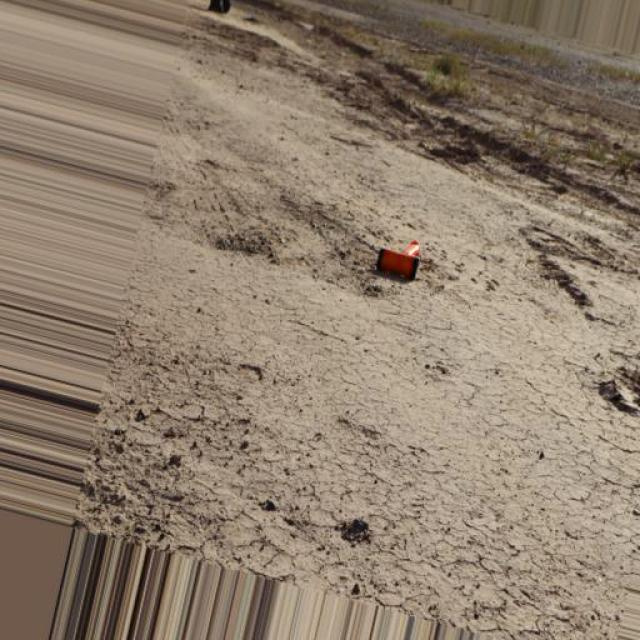mallet: (375, 238, 421, 280)
